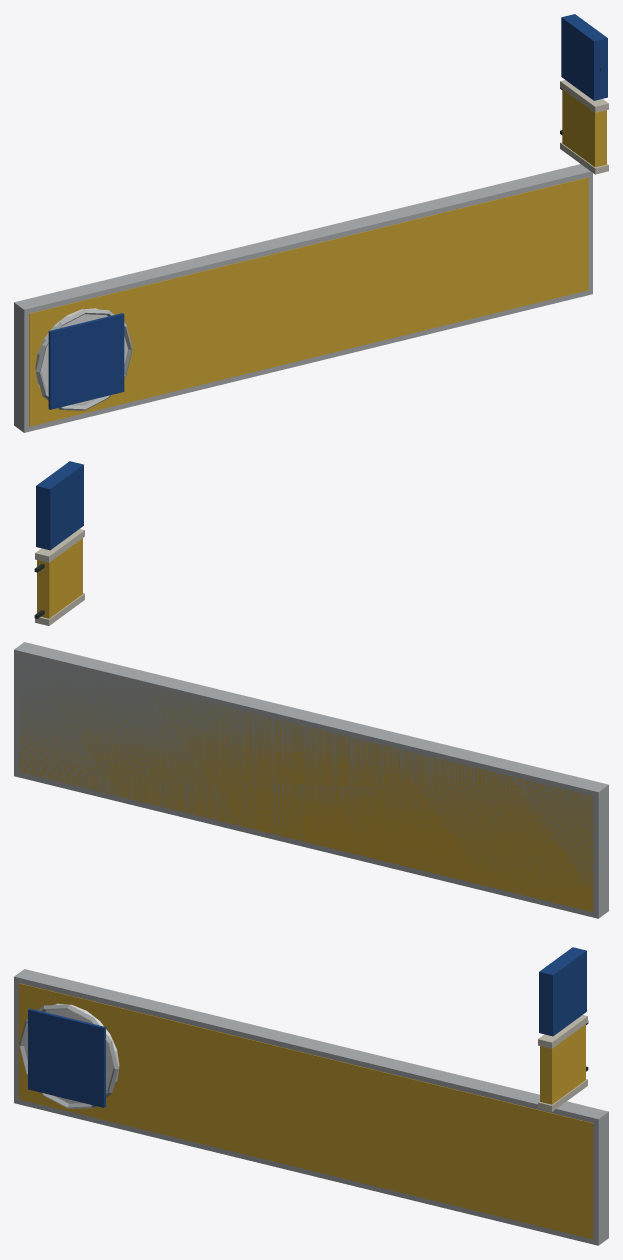
The model's file is bang_gui_xe_60.glb.
3 views of the same model, one above another, from view 1: azimuth 30°, elevation 25°; view 2: azimuth 150°, elevation 25°; view 3: azimuth 330°, elevation 25° (orthographic). The views are drawn at different scales.
Visible parts, largest first — view 1: bang_gui_xe_60; view 2: bang_gui_xe_60; view 3: bang_gui_xe_60.
Part boxes in pixels (box(x1,y1,x2,y2)): bang_gui_xe_60: box(14, 14, 608, 432); bang_gui_xe_60: box(14, 461, 608, 918); bang_gui_xe_60: box(14, 947, 608, 1245).
Bounding box in the file's own units: 5.8 × 2.74 × 0.72.
